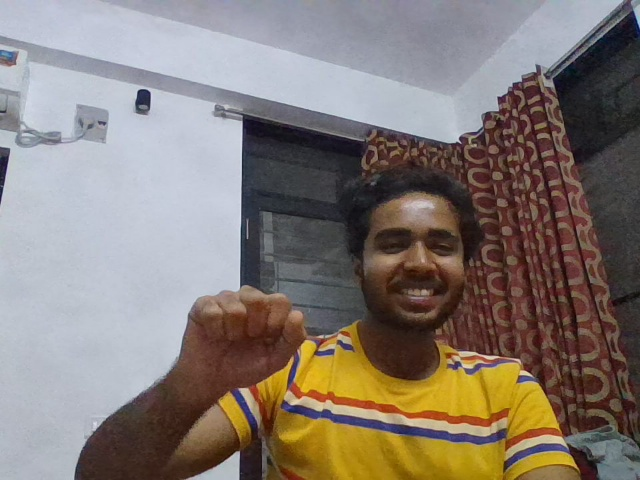Yes: (176, 281, 309, 401)
